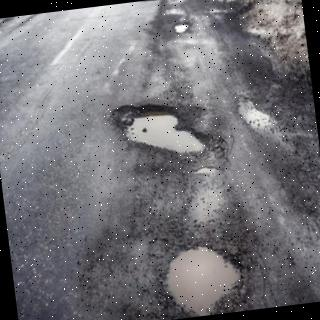pothole: (167, 247, 241, 317), (112, 105, 208, 153)
